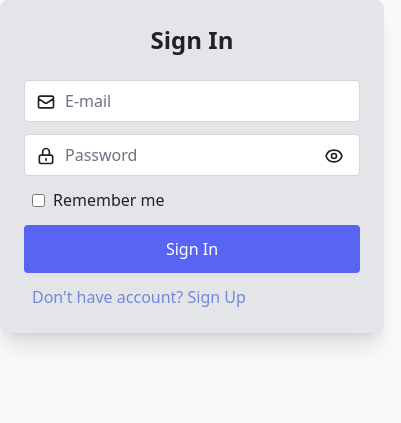
Test: SignInForm validation › Should display error message if email is invalid
Type "demo" into the field named "email-input". click: (192, 101)
box: [24,80,360,122]
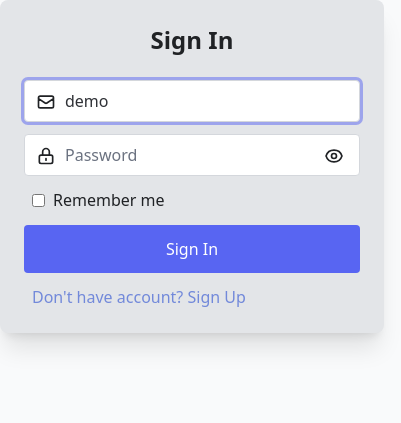
Click the button with aria-label "sign-in-button". click: (192, 248)
box: [24,224,360,272]
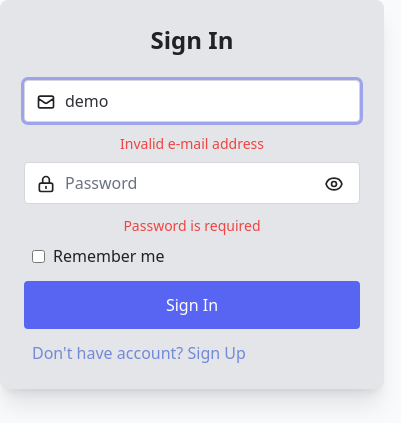
Now the text "Invalid e-mail address" is shown, box [120,134,264,153]
